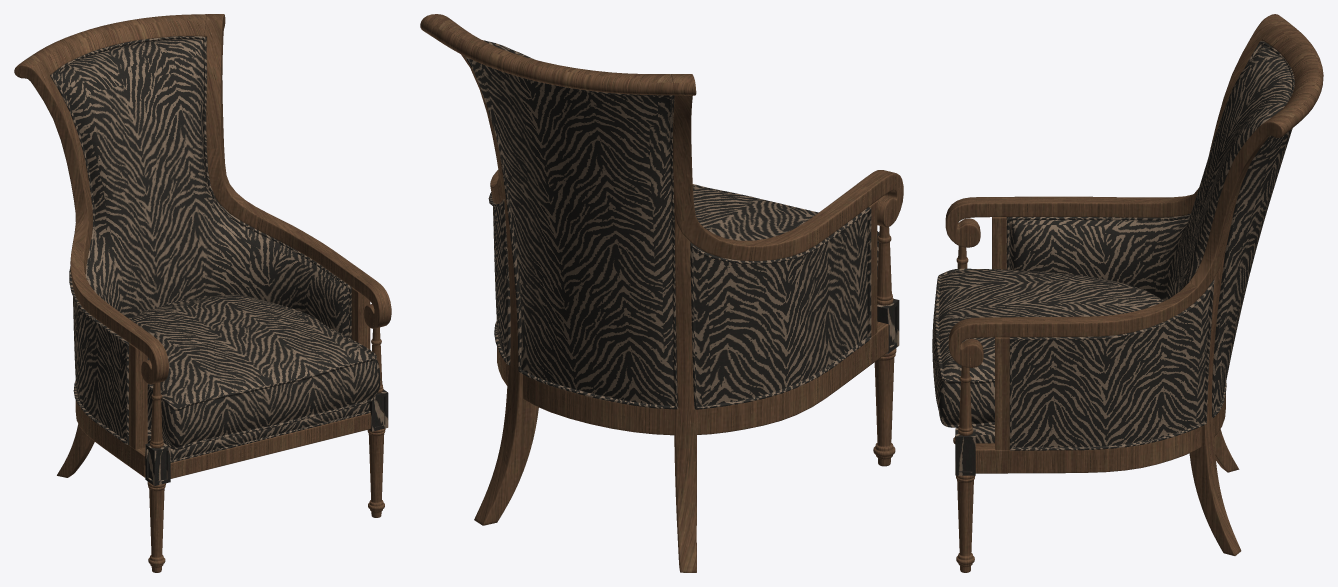
Rendered from Chair2.obj.
3 renders of one model, left to right at view 1: azimuth 30°, elevation 25°; view 2: azimuth 150°, elevation 25°; view 3: azimuth 270°, elevation 25°, orthographic. The views are drawn at different scales.
Parts seen in each view (by area): view 1: w_cg_taobao_com__________11, w_cg_taobao_com__________14, w_cg_taobao_com__________10, w_cg_taobao_com__________13; view 2: w_cg_taobao_com__________11, w_cg_taobao_com__________14, w_cg_taobao_com__________10, w_cg_taobao_com__________13; view 3: w_cg_taobao_com__________11, w_cg_taobao_com__________14, w_cg_taobao_com__________10, w_cg_taobao_com__________13.
Part boxes in pixels (x1,y1,x2,y2): w_cg_taobao_com__________11: (50,36,370,462); w_cg_taobao_com__________14: (14,14,391,572); w_cg_taobao_com__________10: (130,294,380,449); w_cg_taobao_com__________13: (145,389,388,485); w_cg_taobao_com__________11: (464,40,871,409); w_cg_taobao_com__________14: (420,14,903,572); w_cg_taobao_com__________10: (692,184,879,278); w_cg_taobao_com__________13: (877,298,899,354); w_cg_taobao_com__________11: (957,41,1294,450); w_cg_taobao_com__________14: (945,14,1323,572); w_cg_taobao_com__________10: (932,268,1164,427); w_cg_taobao_com__________13: (955,428,975,475).
Bounding box in the file's own units: 27.91 × 44.39 × 35.64.
